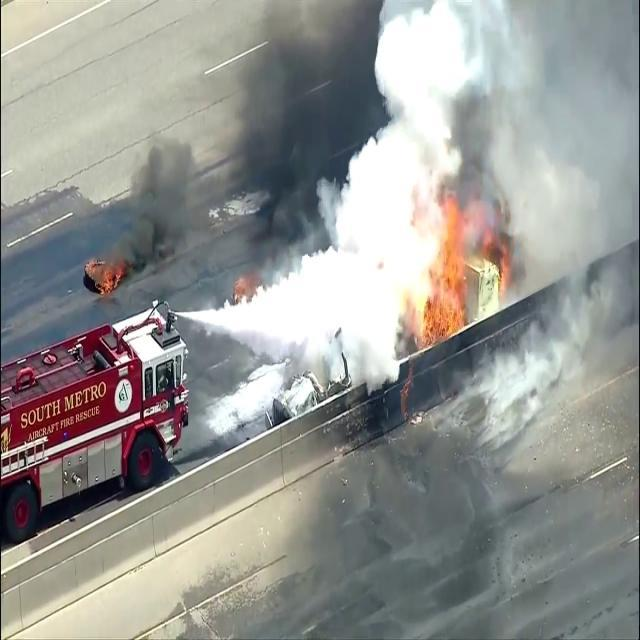Smoke: (82, 2, 572, 306), (87, 73, 273, 312), (370, 2, 530, 271)
